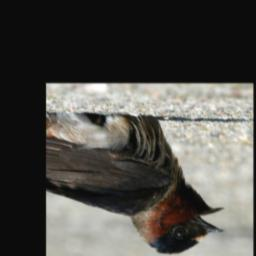Swallow: (46, 110, 227, 255)
